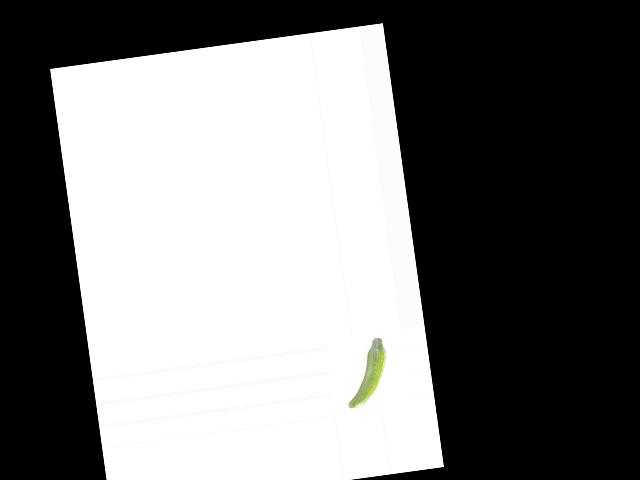cucumber: (339, 336, 392, 408)
